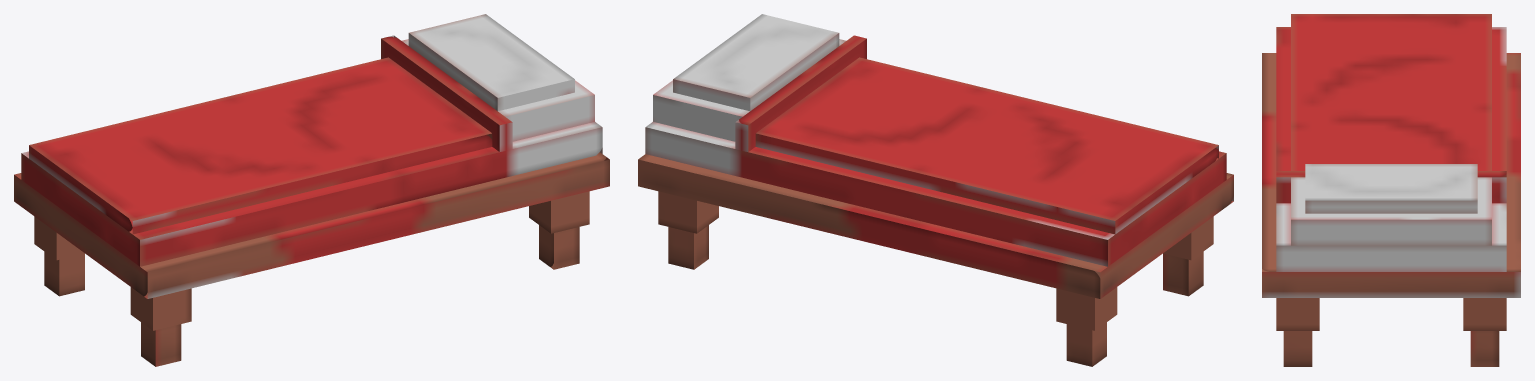
File: Bed.fbx
3 renders of one model, left to right at view 1: azimuth 30°, elevation 25°; view 2: azimuth 150°, elevation 25°; view 3: azimuth 270°, elevation 25°, orthographic. The views are drawn at different scales.
Visible parts, largest first — view 1: cube_2, cube, cube_1, cube_4, cube_5, cube_3, cube_9, cube_13, cube_7, cube_12, cube_8, cube_6; view 2: cube_2, cube, cube_1, cube_4, cube_5, cube_3, cube_6, cube_11, cube_8, cube_10, cube_7, cube_9; view 3: cube_2, cube, cube_1, cube_4, cube_3, cube_11, cube_13, cube_5, cube_10, cube_12.
Boxes of the visible parts, x1=… form: cube_2: x1=29, y1=57, x2=492, y2=234; cube: x1=14, y1=152, x2=609, y2=298; cube_1: x1=21, y1=122, x2=602, y2=266; cube_4: x1=408, y1=14, x2=574, y2=111; cube_5: x1=381, y1=35, x2=512, y2=151; cube_3: x1=401, y1=39, x2=594, y2=141; cube_9: x1=130, y1=287, x2=191, y2=330; cube_13: x1=529, y1=191, x2=589, y2=233; cube_7: x1=44, y1=251, x2=84, y2=296; cube_12: x1=539, y1=225, x2=579, y2=269; cube_8: x1=141, y1=322, x2=181, y2=366; cube_6: x1=34, y1=216, x2=84, y2=260; cube_2: x1=755, y1=57, x2=1218, y2=234; cube: x1=638, y1=154, x2=1233, y2=298; cube_1: x1=645, y1=122, x2=1226, y2=266; cube_4: x1=673, y1=14, x2=839, y2=111; cube_5: x1=735, y1=35, x2=866, y2=151; cube_3: x1=653, y1=39, x2=846, y2=141; cube_6: x1=1056, y1=287, x2=1117, y2=330; cube_11: x1=658, y1=191, x2=718, y2=233; cube_8: x1=1163, y1=251, x2=1203, y2=296; cube_10: x1=668, y1=225, x2=708, y2=269; cube_7: x1=1066, y1=322, x2=1106, y2=366; cube_9: x1=1163, y1=216, x2=1213, y2=260; cube_2: x1=1291, y1=14, x2=1491, y2=170; cube: x1=1262, y1=53, x2=1520, y2=297; cube_1: x1=1276, y1=27, x2=1506, y2=271; cube_4: x1=1305, y1=164, x2=1477, y2=213; cube_3: x1=1291, y1=177, x2=1491, y2=245; cube_11: x1=1463, y1=298, x2=1506, y2=330; cube_13: x1=1276, y1=298, x2=1319, y2=330; cube_5: x1=1276, y1=171, x2=1506, y2=203; cube_10: x1=1470, y1=331, x2=1499, y2=366; cube_12: x1=1283, y1=331, x2=1312, y2=366.
Size of the model in its own units: 225 by 81.25 by 112.
